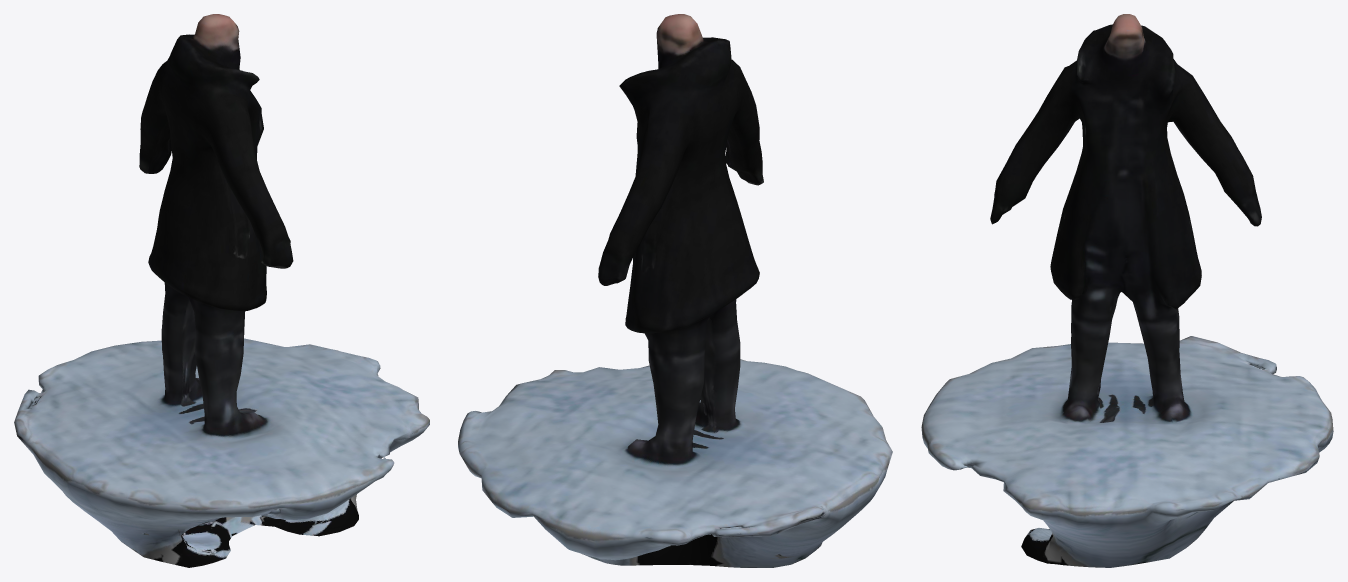
File: pedestrian8.glb
The picture shows the model from 3 angles, left to right: view 1: azimuth 30°, elevation 25°; view 2: azimuth 150°, elevation 25°; view 3: azimuth 270°, elevation 25°; orthographic projection. The views are drawn at different scales.
Parts seen in each view (by area): view 1: mesh; view 2: mesh; view 3: mesh.
Boxes of the visible parts, x1=… form: mesh: x1=14, y1=14, x2=429, y2=567; mesh: x1=458, y1=14, x2=892, y2=567; mesh: x1=921, y1=14, x2=1333, y2=567.
Size of the model in its own units: 0.7308 by 0.9989 by 0.7509.
1 material, 1 textured.
